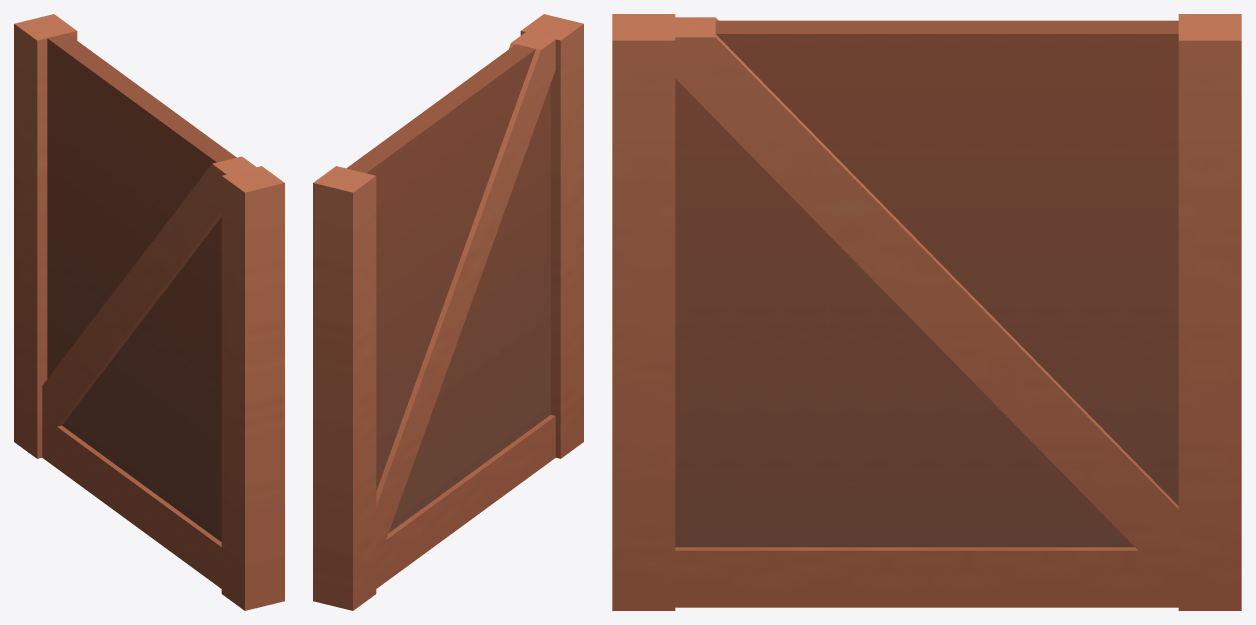
File: wallWoodDetailDiagonal.fbx
3 views of the same model, side by side, from view 1: azimuth 30°, elevation 25°; view 2: azimuth 150°, elevation 25°; view 3: azimuth 270°, elevation 25° (orthographic). The views are drawn at different scales.
Visible parts, largest first — view 1: wallWoodDetailDiagonal; view 2: wallWoodDetailDiagonal; view 3: wallWoodDetailDiagonal.
Part boxes in pixels (x1=…): wallWoodDetailDiagonal: x1=14, y1=14, x2=284, y2=610; wallWoodDetailDiagonal: x1=313, y1=14, x2=583, y2=610; wallWoodDetailDiagonal: x1=612, y1=14, x2=1241, y2=610.
Size of the model in its own units: 0.1 by 1 by 1.
